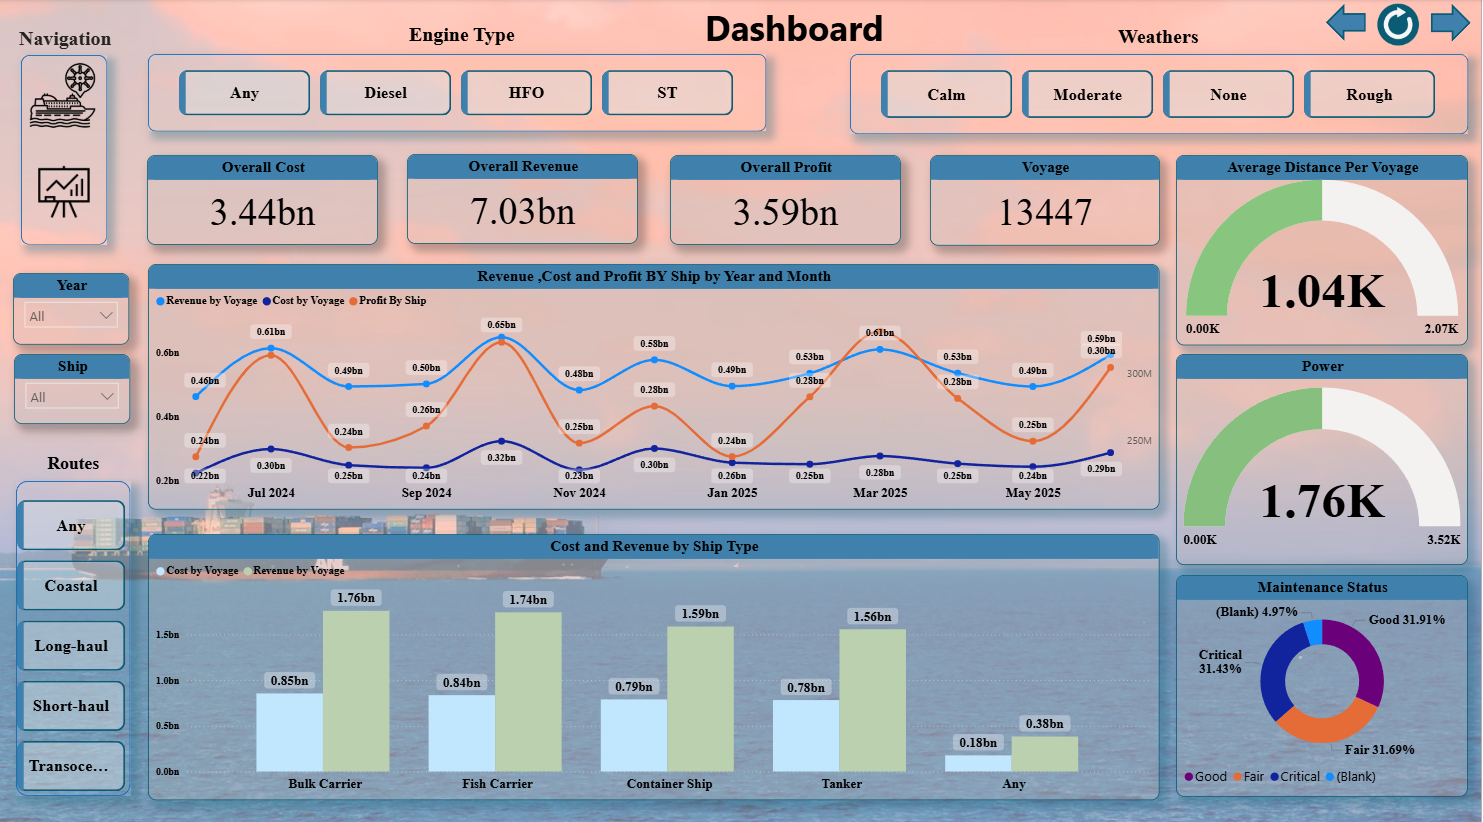

The dashboard page shown, as its layout file describes it:
{"tool":"powerbi","page":{"name":"Dashboard","canvas":[1800,1000],"ordinal":0},"visuals":[{"type":"shape","box":[29.3,67.5,104.4,230.4],"z":0},{"type":"gauge","fields":{"Y":["Measures .Average Distance Traveled"]},"box":[1429.5,188.9,354.5,231],"z":1000},{"type":"gauge","fields":{"Y":["Engine Types.Power"]},"box":[1429.5,430,354.5,255.7],"z":2000},{"type":"card","title":"Overall Cost","fields":{"Values":["Engine Types.Cost by Voyage"]},"box":[181.4,189.8,280.5,109.2],"z":3000},{"type":"card","title":"Overall Revenue","fields":{"Values":["Engine Types.Revenue by Voyage"]},"box":[497.1,188.1,280.5,109.2],"z":4000},{"type":"card","title":"Overall Profit","fields":{"Values":["Engine Types.Profit BY Ship"]},"box":[816.6,188.8,280.4,109.4],"z":5000},{"type":"card","title":"Voyage","fields":{"Values":["Engine Types.Voyage Count by Ship"]},"box":[1131.2,189.2,278.8,109.5],"z":6000},{"type":"lineChart","title":"Revenue ,Cost and Profit BY Ship by Year and Month","fields":{"Category":["Table1.Date.Variation.Date Hierarchy.Year","Table1.Date.Variation.Date Hierarchy.Month"],"Y":["Engine Types.Revenue by Voyage","Engine Types.Cost by Voyage"],"Y2":["Engine Types.Profit BY Ship"]},"box":[182.6,321.7,1226.5,298.3],"z":7000},{"type":"shape","box":[1034.4,66.8,750,97.3],"z":8000,"group":"g2"},{"type":"clusteredColumnChart","title":"Cost and Revenue by Ship Type","fields":{"Y":["Engine Types.Cost by Voyage","Engine Types.Revenue by Voyage"],"Category":["Table1.Ship Name"]},"box":[182.6,648.5,1226.5,323.4],"z":8000},{"type":"textbox","box":[829.4,0,274.8,78.8],"z":9000},{"type":"shape","box":[23.9,584.8,138.8,381.9],"z":9000,"group":"g3"},{"type":"textbox","box":[495.4,25.2,157.9,42],"z":10000},{"type":"advancedSlicerVisual","fields":{"Values":["Table1.Route"]},"box":[19.8,603.2,141.8,364.2],"z":10000,"group":"g3"},{"type":"shape","box":[183.6,66.8,750,94],"z":11000,"group":"g1"},{"type":"textbox","box":[38.2,546.1,109.5,38.2],"z":11000},{"type":"group","id":"g1","title":"Group 2","box":[183.6,66.8,750,94],"z":12000},{"type":"textbox","box":[1354.6,28.5,127.4,38.4],"z":13000},{"type":"group","id":"g2","title":"Group 1","box":[1034.4,66.8,749.6,97.3],"z":14000},{"type":"advancedSlicerVisual","fields":{"Values":["Table1.Weather_Condition"]},"box":[1066.8,81.9,684.4,68.9],"z":14000,"group":"g2"},{"type":"advancedSlicerVisual","fields":{"Values":["Table1.Engine_Type"]},"box":[216,81.9,685.2,65.5],"z":15000,"group":"g1"},{"type":"slicer","title":"Year","fields":{"Values":["Table1.Date.Variation.Date Hierarchy.Year"]},"box":[19.1,332.2,141.3,86.6],"z":15000},{"type":"slicer","title":"Ship","fields":{"Values":["Table1.Ship Name"]},"box":[20.4,430.3,141.3,85.3],"z":16000},{"type":"donutChart","title":"Maintenance Status","fields":{"Category":["Maintenance_Status.Maintenance_Status"],"Y":["CountNonNull(Table1.Maintenance_Status)"]},"box":[1429.5,698.8,354.5,268.8],"z":17000},{"type":"image","box":[29.3,67.5,100.6,99.3],"z":18000},{"type":"image","box":[43.3,189.7,75.1,89.1],"z":19000},{"type":"textbox","box":[21.6,30.6,140,39.5],"z":20000},{"type":"group","id":"g3","title":"Group 3","box":[19.8,584.8,142.8,382.6],"z":21000},{"type":"shape","box":[1611.6,6.4,48.4,44.6],"z":22000},{"type":"image","box":[1660.1,0,78.8,61.6],"z":23000},{"type":"shape","box":[1738.9,6.2,48,45.6],"z":24000}]}

Visuals, with their boxes in screenshot pixels (x1, y1, x2, y2), scaled from the page's 1800x1000 canvas onto the 1483x822 screenshot:
shape: 24 55 110 245
gauge - Measures .Average Distance Traveled: 1178 155 1470 345
gauge - Engine Types.Power: 1178 353 1470 564
"Overall Cost" card: 149 156 381 246
"Overall Revenue" card: 410 155 641 244
"Overall Profit" card: 673 155 904 245
"Voyage" card: 932 156 1162 246
"Revenue ,Cost and Profit BY Ship by Year and Month" lineChart: 150 264 1161 510
shape: 852 55 1470 135
"Cost and Revenue by Ship Type" clusteredColumnChart: 150 533 1161 799
textbox: 683 0 910 65
shape: 20 481 134 795
textbox: 408 21 538 55
advancedSlicerVisual - Table1.Route: 16 496 133 795
shape: 151 55 769 132
textbox: 31 449 122 480
"Group 2" group: 151 55 769 132
textbox: 1116 23 1221 55
"Group 1" group: 852 55 1470 135
advancedSlicerVisual - Table1.Weather_Condition: 879 67 1443 124
advancedSlicerVisual - Table1.Engine_Type: 178 67 742 121
"Year" slicer: 16 273 132 344
"Ship" slicer: 17 354 133 424
"Maintenance Status" donutChart: 1178 574 1470 795
image: 24 55 107 137
image: 36 156 98 229
textbox: 18 25 133 58
"Group 3" group: 16 481 134 795
shape: 1328 5 1368 42
image: 1368 0 1433 51
shape: 1433 5 1472 43
